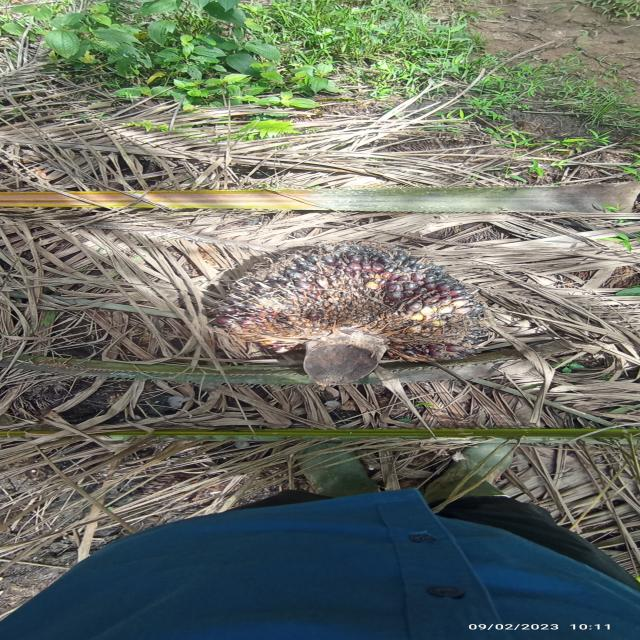fraksi 00: (116, 230, 542, 420)
